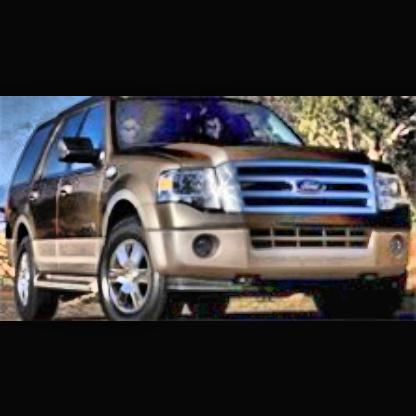Ford Expedition EL SUV 2009: (8, 98, 416, 319)
